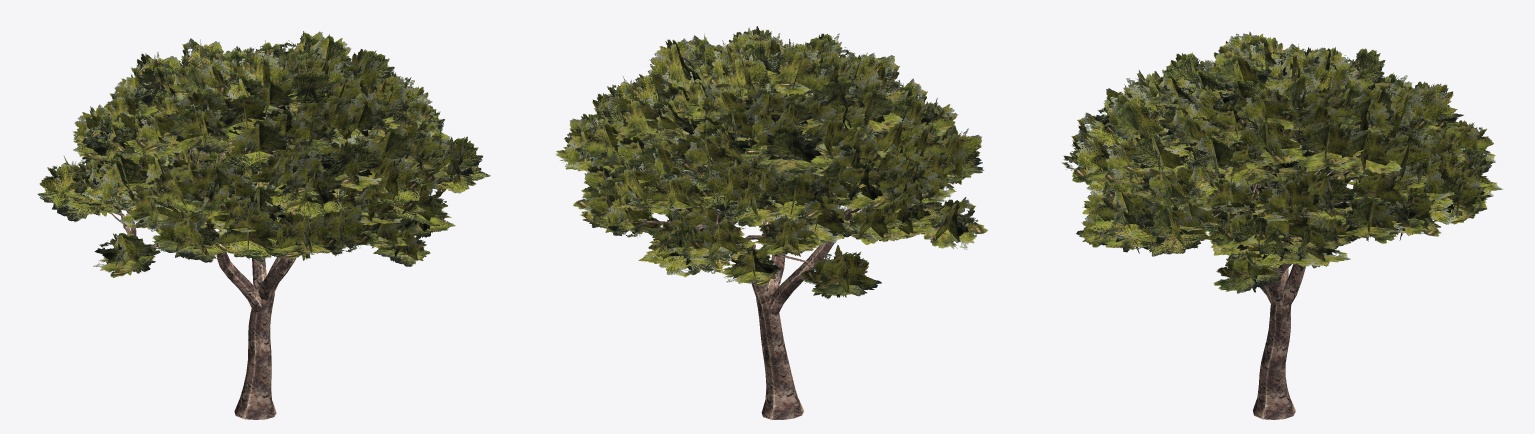
File: pino_pilonero.glb
The picture shows the model from 3 angles, left to right: view 1: azimuth 30°, elevation 25°; view 2: azimuth 150°, elevation 25°; view 3: azimuth 270°, elevation 25°; orthographic projection. The views are drawn at different scales.
Parts seen in each view (by area): view 1: PP_Copa_Tarjetas, PP_Tronco_Ramas; view 2: PP_Copa_Tarjetas, PP_Tronco_Ramas; view 3: PP_Copa_Tarjetas, PP_Tronco_Ramas.
Boxes of the visible parts, left/top/right/bottom form: PP_Copa_Tarjetas: left=37, top=31, right=490, bottom=277; PP_Tronco_Ramas: left=109, top=147, right=417, bottom=419; PP_Copa_Tarjetas: left=555, top=26, right=987, bottom=298; PP_Tronco_Ramas: left=638, top=139, right=938, bottom=419; PP_Copa_Tarjetas: left=1061, top=31, right=1502, bottom=293; PP_Tronco_Ramas: left=1187, top=145, right=1360, bottom=419.
Size of the model in its own units: 16.5 by 13.47 by 16.64.
Materials: 2 (2 with a texture image).
